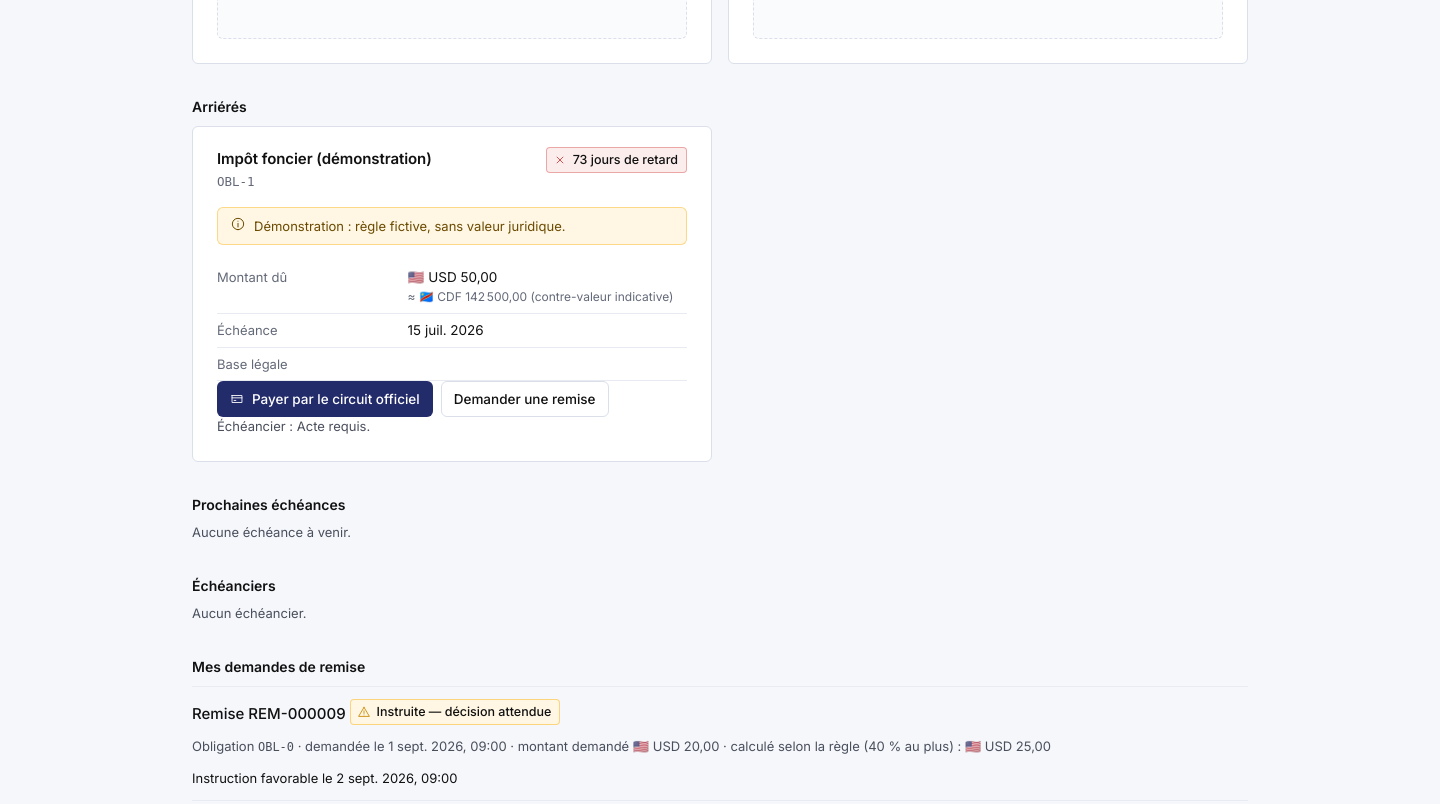
Test case: Écrans de décision — quatre yeux › espace contribuable : demande de remise sur sa propre obligation, base de la règle affichée, statut suivi
Later steps or results of the test are not shown.
(page scrolled)
Check: the text "Remise REM-000009 Instruite — décision attendue" is shown, box [192,699,560,725]
Check: the text "Instruction favorable le 2 sept. 2026, 09:00" is shown, box [192,770,458,786]
Click the button "Demander une remise".
click(525, 399)  # box [441,381,608,417]
(page scrolled)
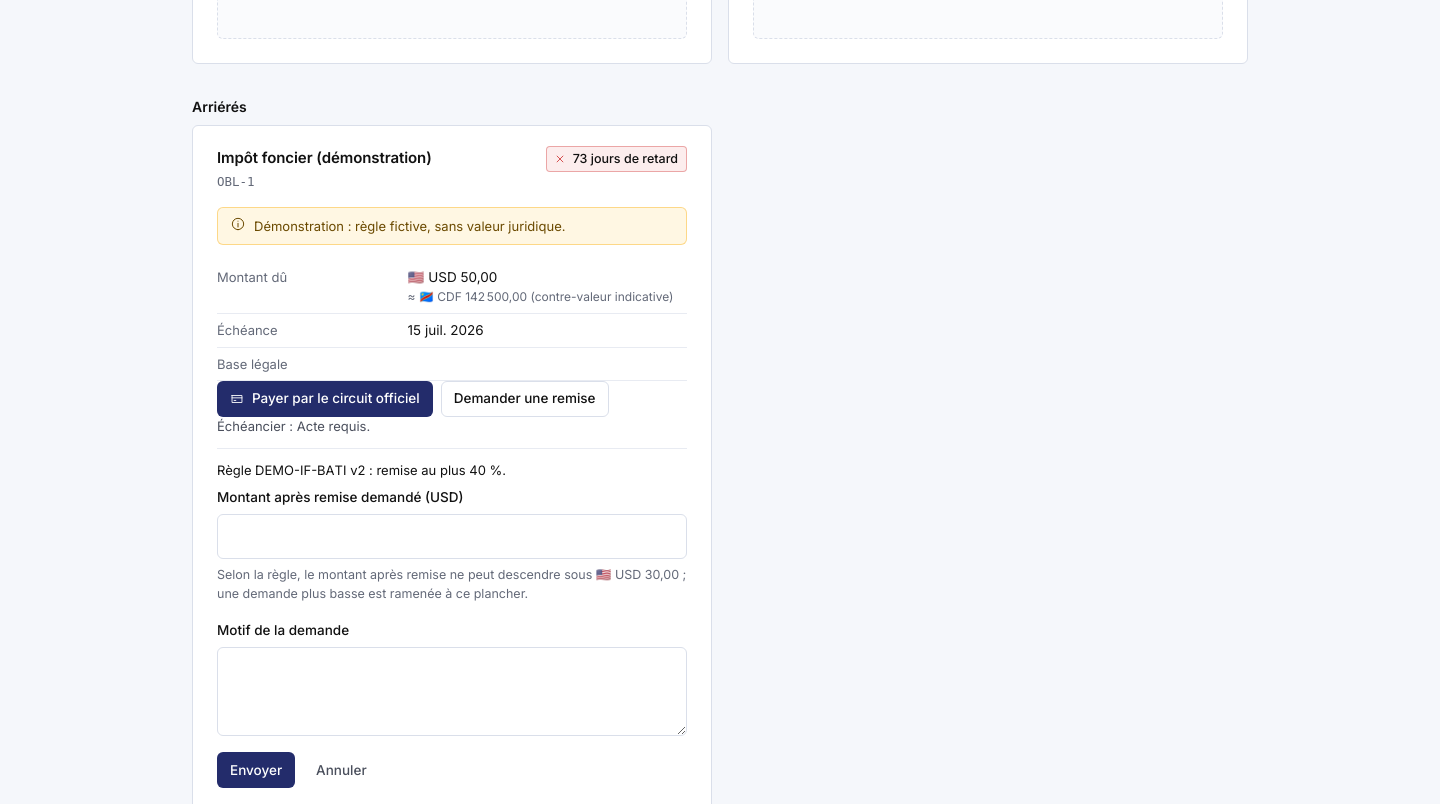
Check: the text "Règle DEMO-IF-BATI v2 : remise au plus 40 %." is shown, box [217,462,506,478]
